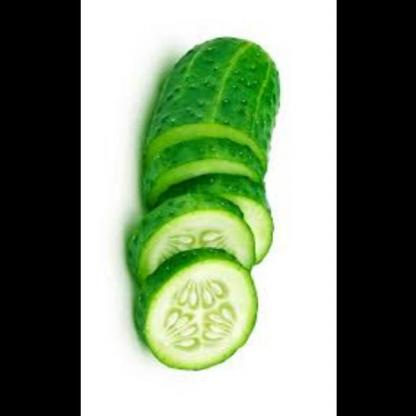cucumber: (129, 250, 271, 370), (134, 138, 286, 248), (113, 197, 262, 275)
